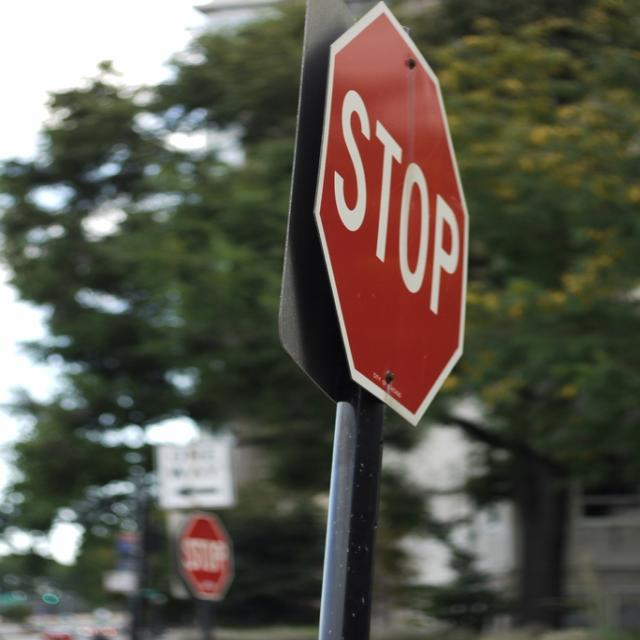Stop-sign: (314, 2, 476, 428)
